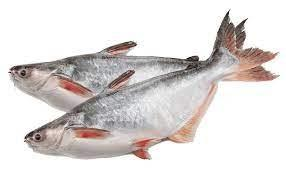Pangasius: (23, 10, 278, 166), (9, 40, 276, 111)
